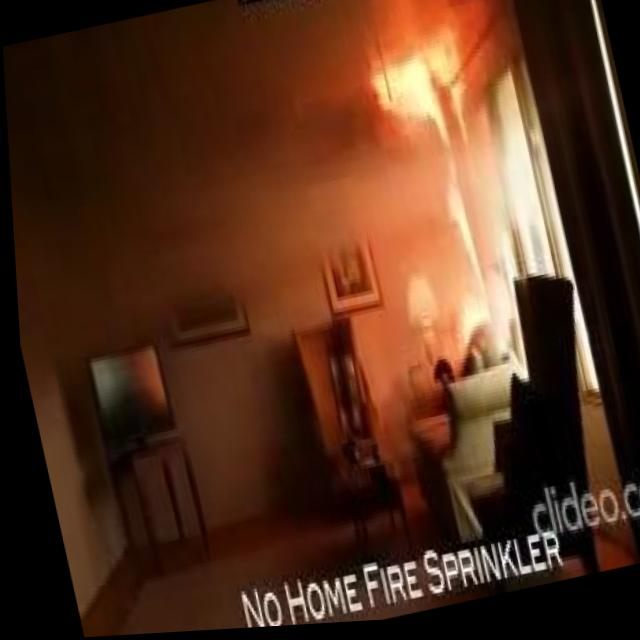fire: (414, 127, 488, 341), (359, 50, 442, 143), (427, 41, 474, 157)
